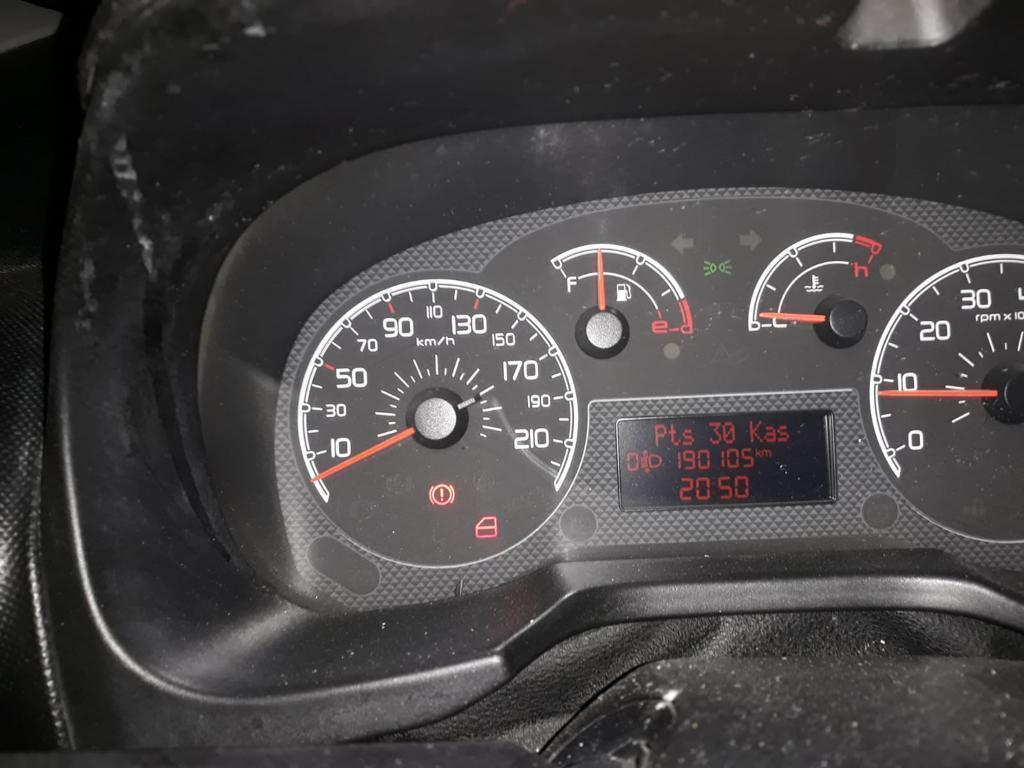0: (694, 476, 711, 501), (733, 475, 749, 499), (722, 421, 736, 445), (697, 448, 712, 470), (625, 451, 640, 472), (726, 448, 739, 468)
1: (720, 449, 725, 469), (676, 450, 681, 469)
2: (679, 476, 693, 500)
3: (708, 420, 721, 446)
5: (716, 474, 733, 499), (740, 447, 753, 467)
9: (682, 449, 696, 470)
X: (748, 418, 763, 442), (667, 422, 681, 446), (654, 423, 667, 447), (681, 426, 695, 445), (777, 423, 790, 443), (764, 424, 776, 443), (762, 448, 772, 457), (755, 447, 762, 457)
odometer: (612, 402, 844, 516)
